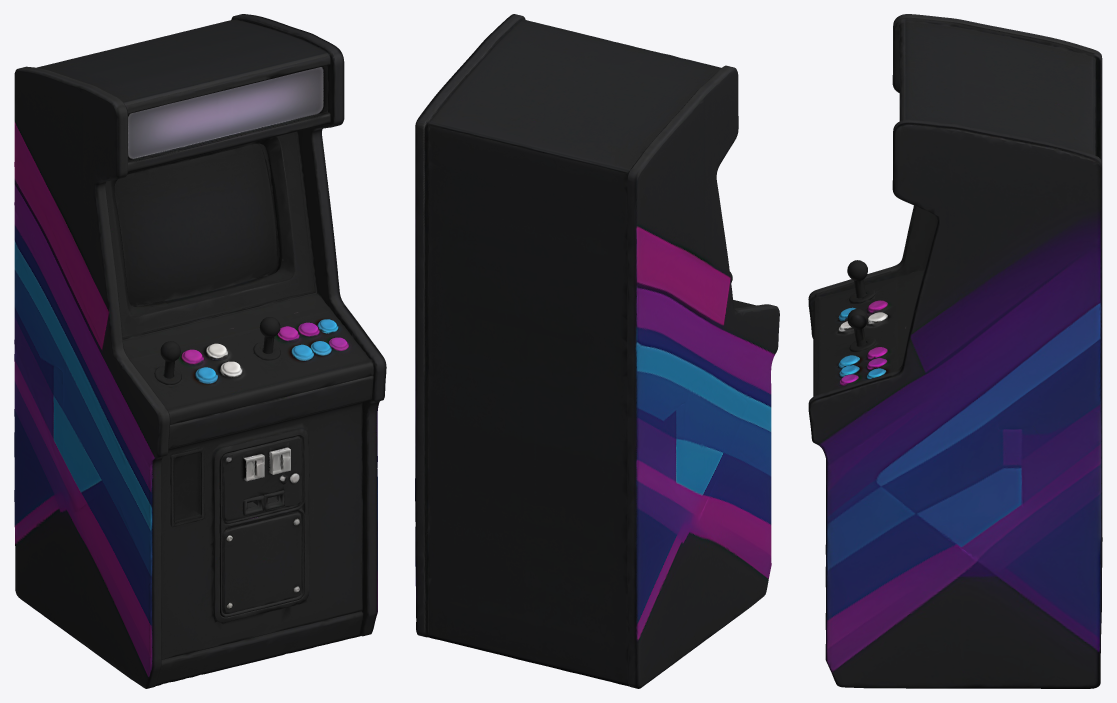
Rendered from arcade-cabinet.glb.
The picture shows the model from 3 angles, left to right: view 1: azimuth 30°, elevation 25°; view 2: azimuth 150°, elevation 25°; view 3: azimuth 270°, elevation 25°; orthographic projection. The views are drawn at different scales.
Visible parts, largest first — view 1: tripo_node_b86994c3-1469-438c-ab7a-6857da48757e; view 2: tripo_node_b86994c3-1469-438c-ab7a-6857da48757e; view 3: tripo_node_b86994c3-1469-438c-ab7a-6857da48757e.
Boxes of the visible parts, box(x1,y1,x2,y2) form: tripo_node_b86994c3-1469-438c-ab7a-6857da48757e: box(14, 14, 386, 688); tripo_node_b86994c3-1469-438c-ab7a-6857da48757e: box(415, 14, 779, 688); tripo_node_b86994c3-1469-438c-ab7a-6857da48757e: box(808, 14, 1102, 688).
Size of the model in its own units: 0.4126 by 0.9792 by 0.461.
Materials: 1 (1 with a texture image).
